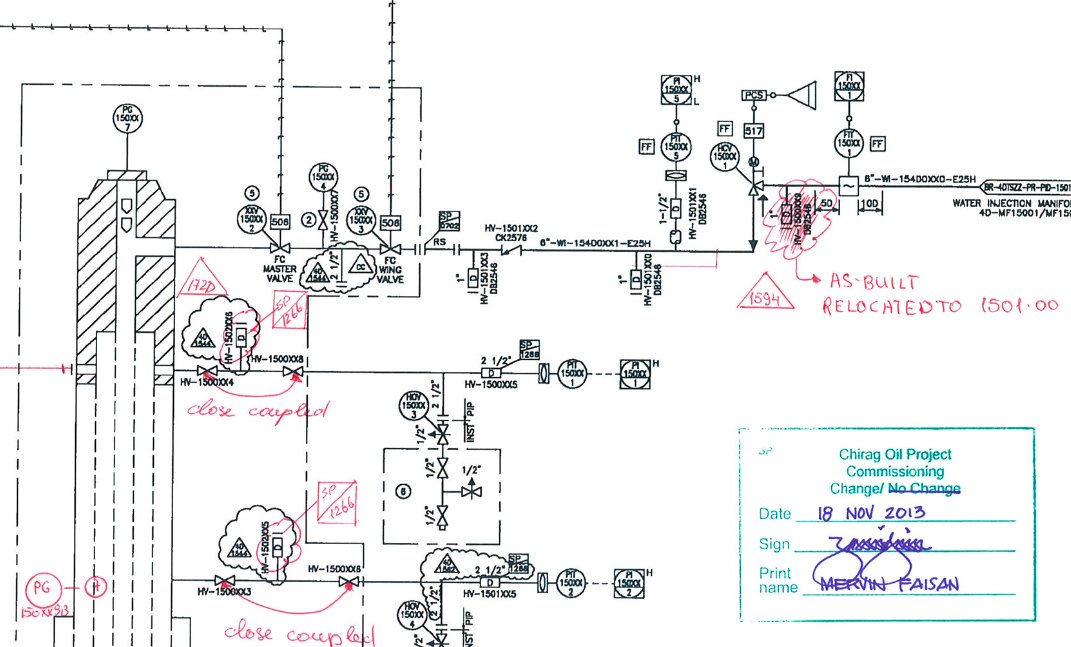Instrument: (829, 121, 866, 162), (658, 128, 699, 165), (111, 100, 149, 137), (395, 593, 430, 632), (706, 138, 742, 174), (306, 157, 341, 193), (556, 354, 588, 392), (555, 562, 587, 600), (398, 386, 429, 425), (344, 201, 377, 237), (234, 201, 266, 236)
Instrument-square: (831, 64, 870, 107), (657, 69, 695, 110), (614, 356, 653, 394), (610, 566, 646, 600)
